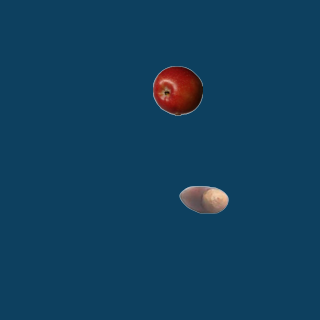Apple Braeburn: (152, 65, 202, 115)
Hazelnut: (178, 174, 228, 224)
